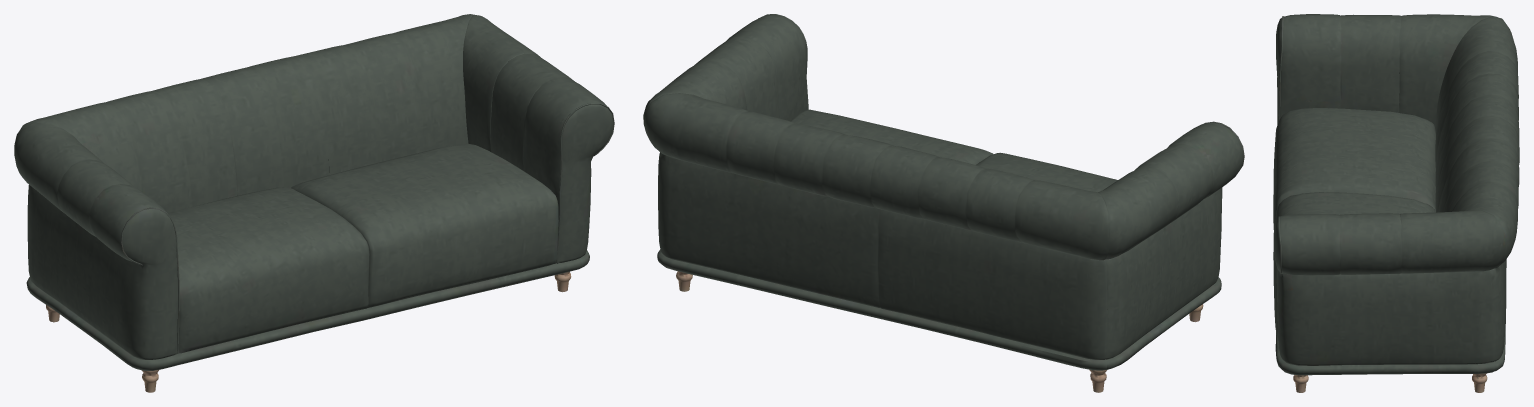
The model's file is cover-lejde-szary-zielony-brzoza.glb.
3 renders of one model, left to right at view 1: azimuth 30°, elevation 25°; view 2: azimuth 150°, elevation 25°; view 3: azimuth 270°, elevation 25°, orthographic. The views are drawn at different scales.
Visible parts, largest first — view 1: Mesh_0; view 2: Mesh_0; view 3: Mesh_0.
Part boxes in pixels (bbox=[...]): Mesh_0: bbox=[14, 14, 614, 392]; Mesh_0: bbox=[643, 14, 1244, 392]; Mesh_0: bbox=[1273, 14, 1519, 392].
Size of the model in its own units: 1.94 by 0.7399 by 0.9.
2 materials, 2 textured.
